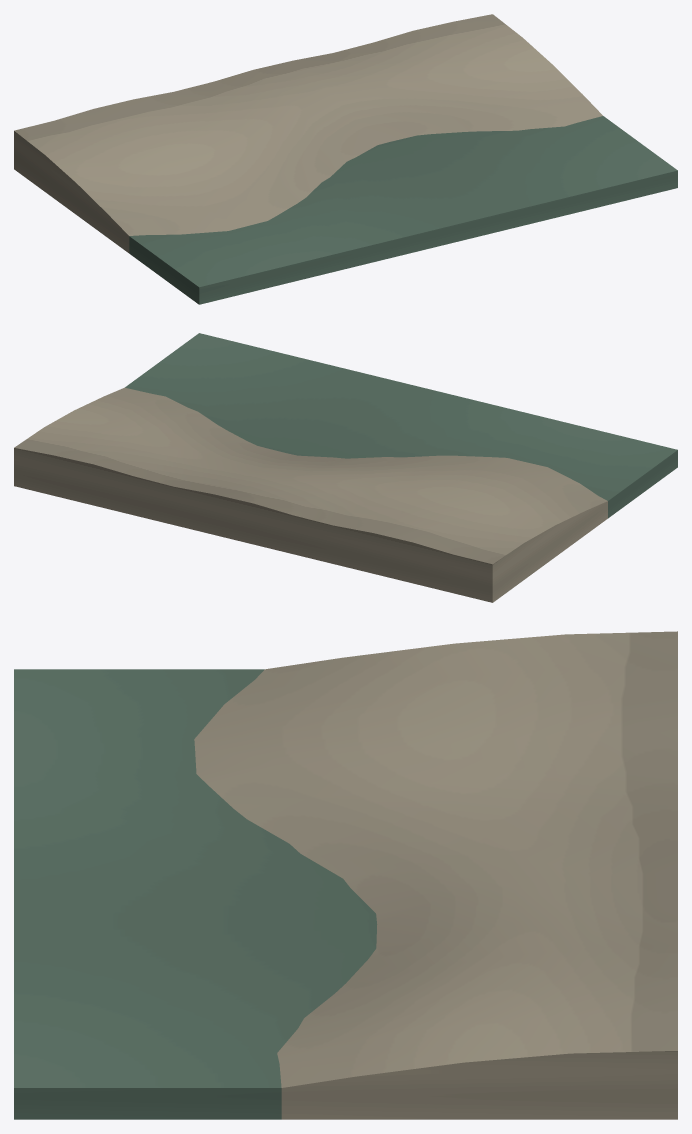
The picture shows the model from 3 angles, top to bottom: view 1: azimuth 30°, elevation 25°; view 2: azimuth 150°, elevation 25°; view 3: azimuth 270°, elevation 25°; orthographic projection. The views are drawn at different scales.
Visible parts, largest first — view 1: djibouti; view 2: djibouti; view 3: djibouti.
Boxes of the visible parts, x1,y1,x2,y2 form: djibouti: (14,14,677,304); djibouti: (14,333,677,602); djibouti: (14,631,677,1119).
Size of the model in its own units: 5.48 by 0.4499 by 3.67.
1 material, 1 textured.
